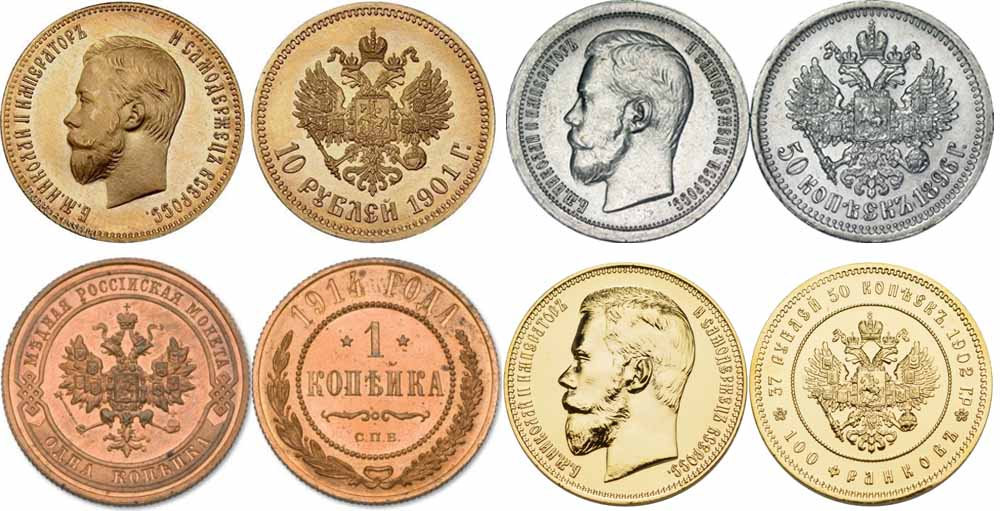coin: (1, 257, 250, 506), (253, 255, 501, 504), (505, 1, 751, 247), (751, 259, 995, 505), (1, 3, 246, 245), (751, 1, 993, 244), (508, 262, 747, 507), (255, 4, 495, 244)
